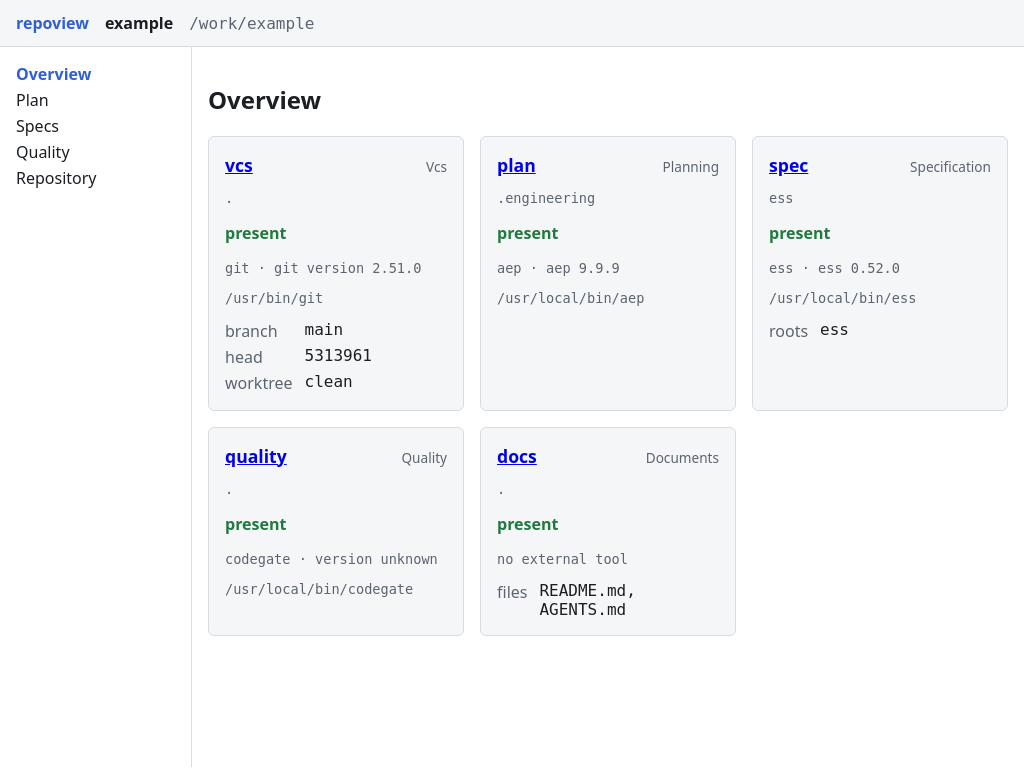
Test: Overview cards link to their page › following a card link opens that page
Click the link "spec" at (789, 165), box [769,153,808,177]
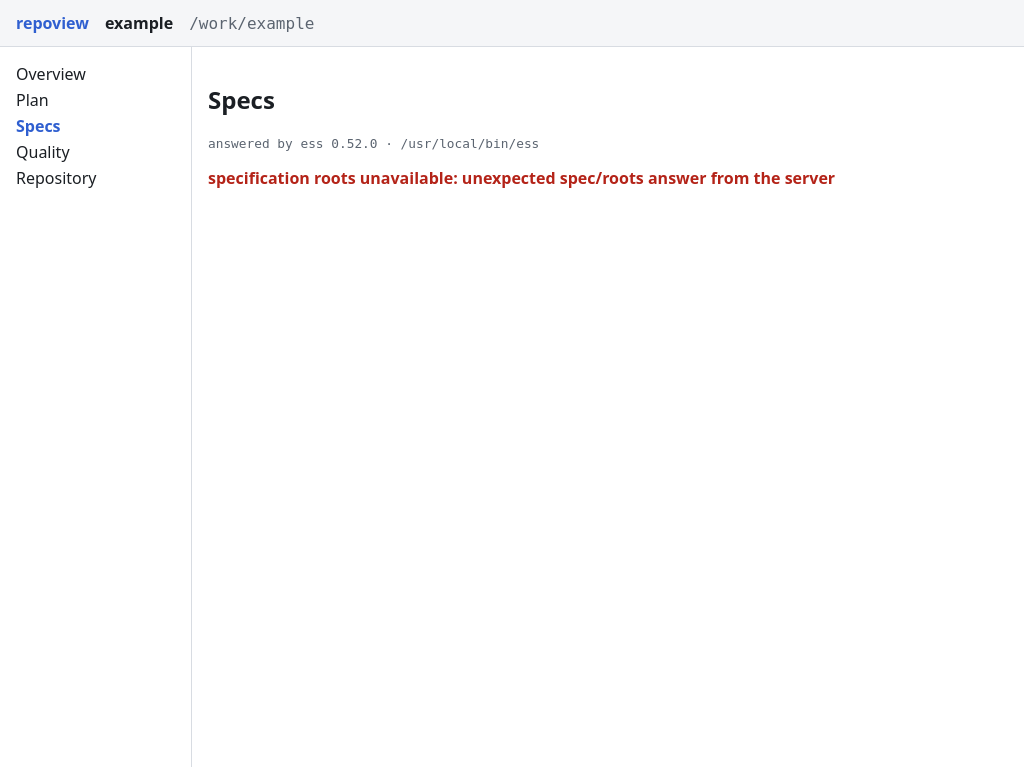
Check: the heading "Specs" is shown, box [208,83,275,116]
